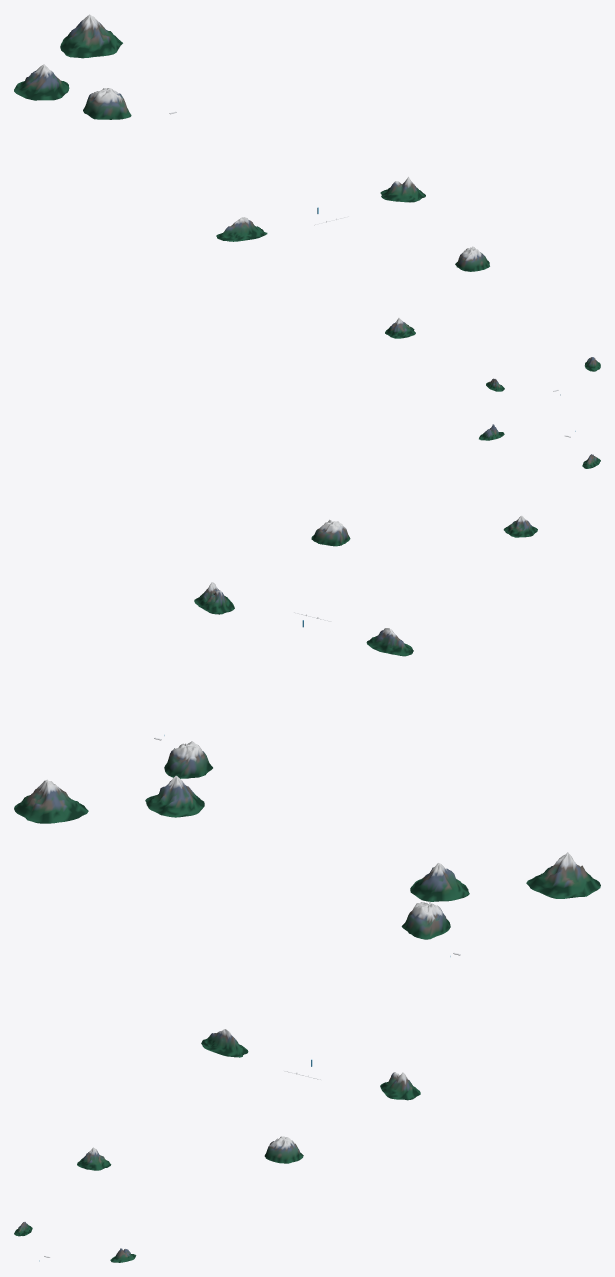
File: world_environment.glb
The picture shows the model from 3 angles, top to bottom: view 1: azimuth 30°, elevation 25°; view 2: azimuth 150°, elevation 25°; view 3: azimuth 330°, elevation 25°; orthographic projection. The views are drawn at different scales.
Parts seen in each view (by area): view 1: World_Airports_And_Metropolis; view 2: World_Airports_And_Metropolis; view 3: World_Airports_And_Metropolis.
Part boxes in pixels (bbox=[...]): World_Airports_And_Metropolis: bbox=[14, 14, 600, 395]; World_Airports_And_Metropolis: bbox=[14, 424, 600, 823]; World_Airports_And_Metropolis: bbox=[14, 852, 600, 1262].
Size of what is drawn, in the model's own units: 13967 by 1892 by 58340.
